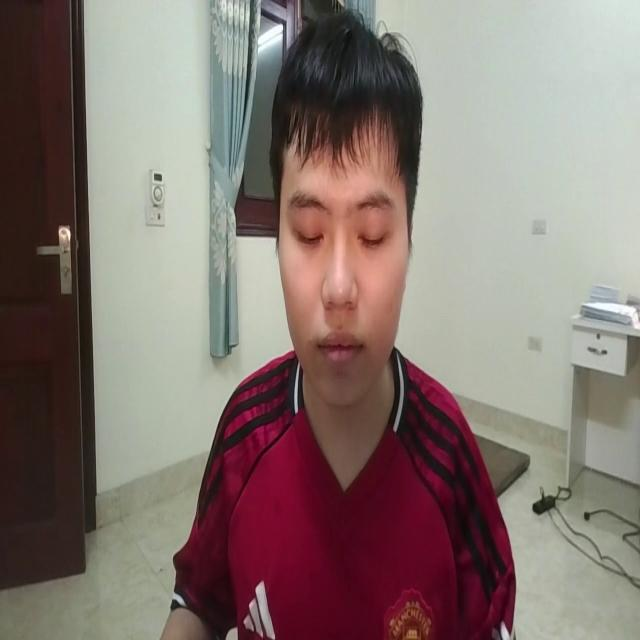student: (154, 4, 520, 640)
